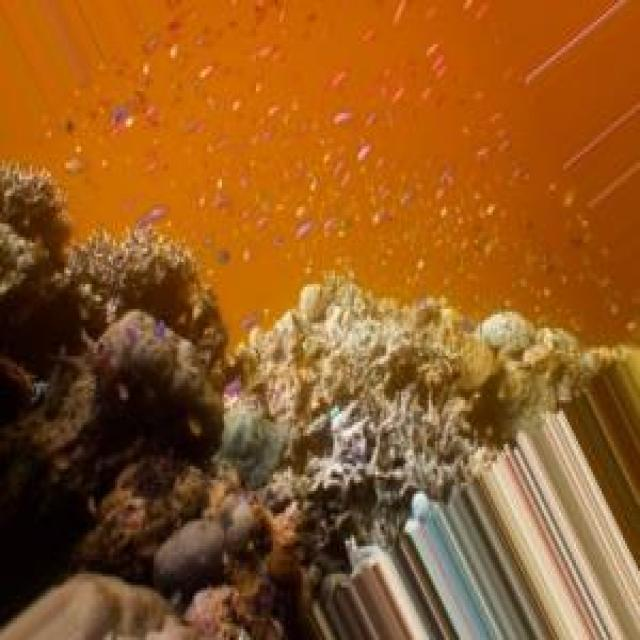Healthy: (210, 280, 607, 640), (1, 164, 227, 624), (1, 575, 195, 640)
